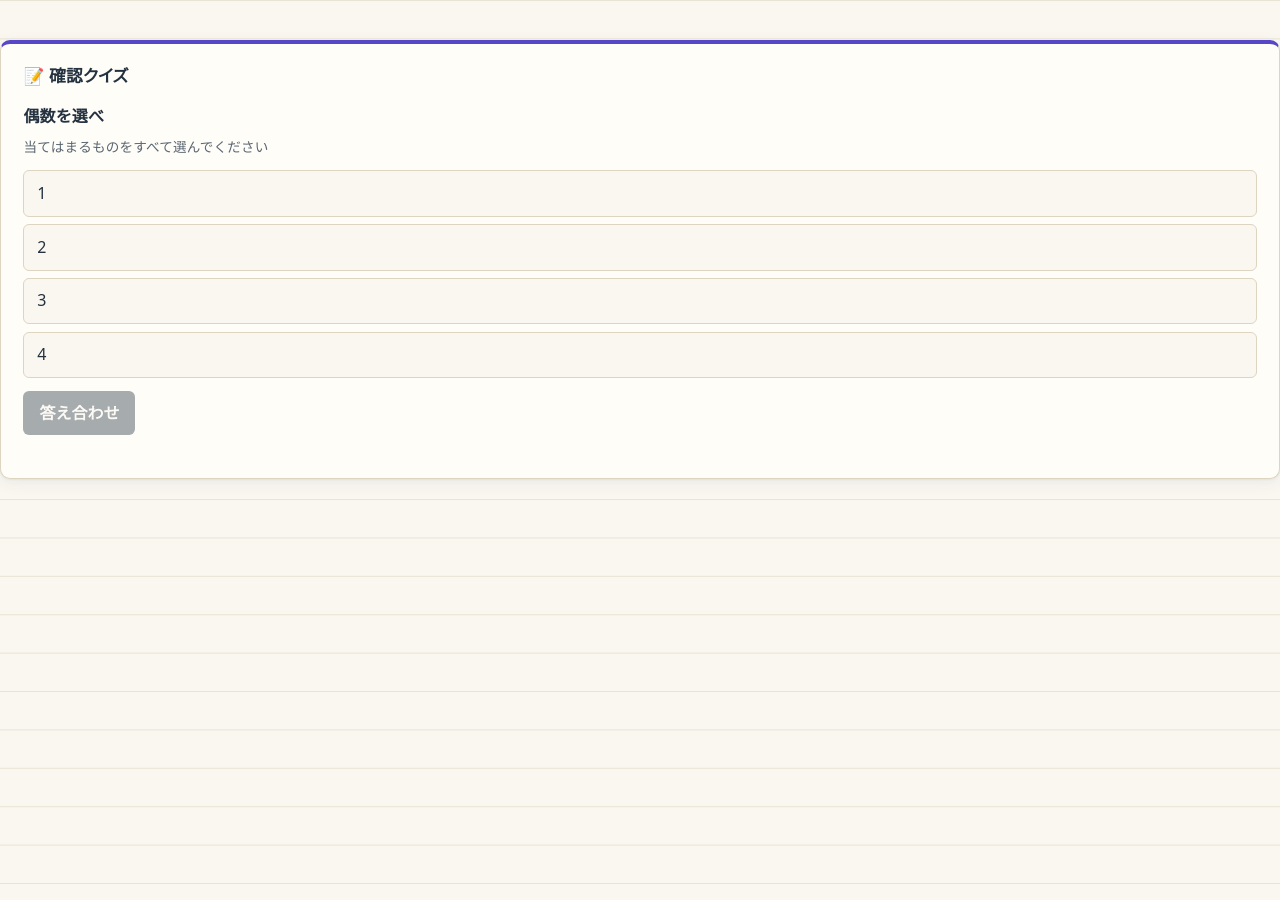
Test case: QuizBlock › multi-select: deselecting after a wrong check clears the verdict too
Click the button "1" at (42, 193), box top-left (23, 170), bottom-right (1257, 217)
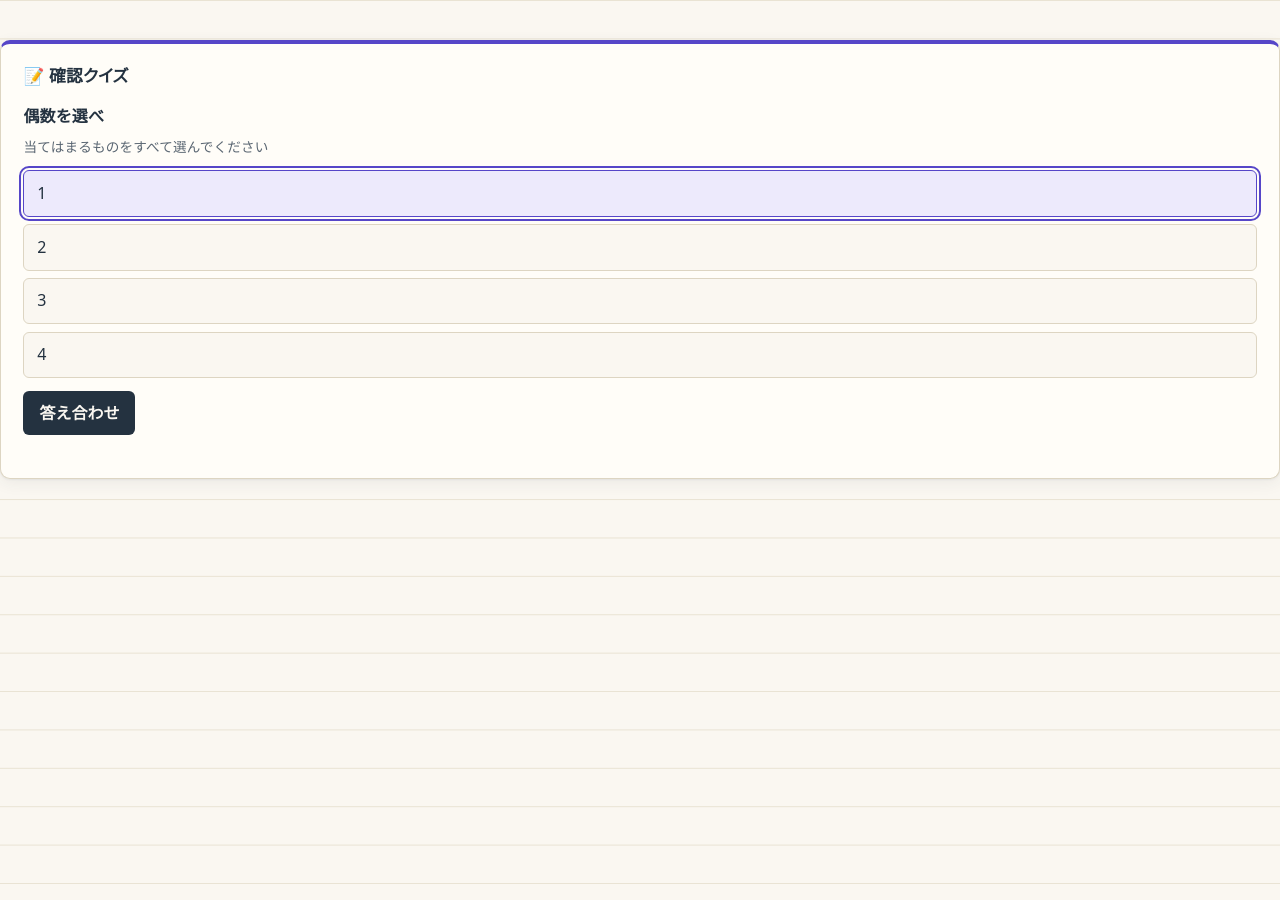
Click the button "2" at (42, 247), box top-left (23, 224), bottom-right (1257, 270)
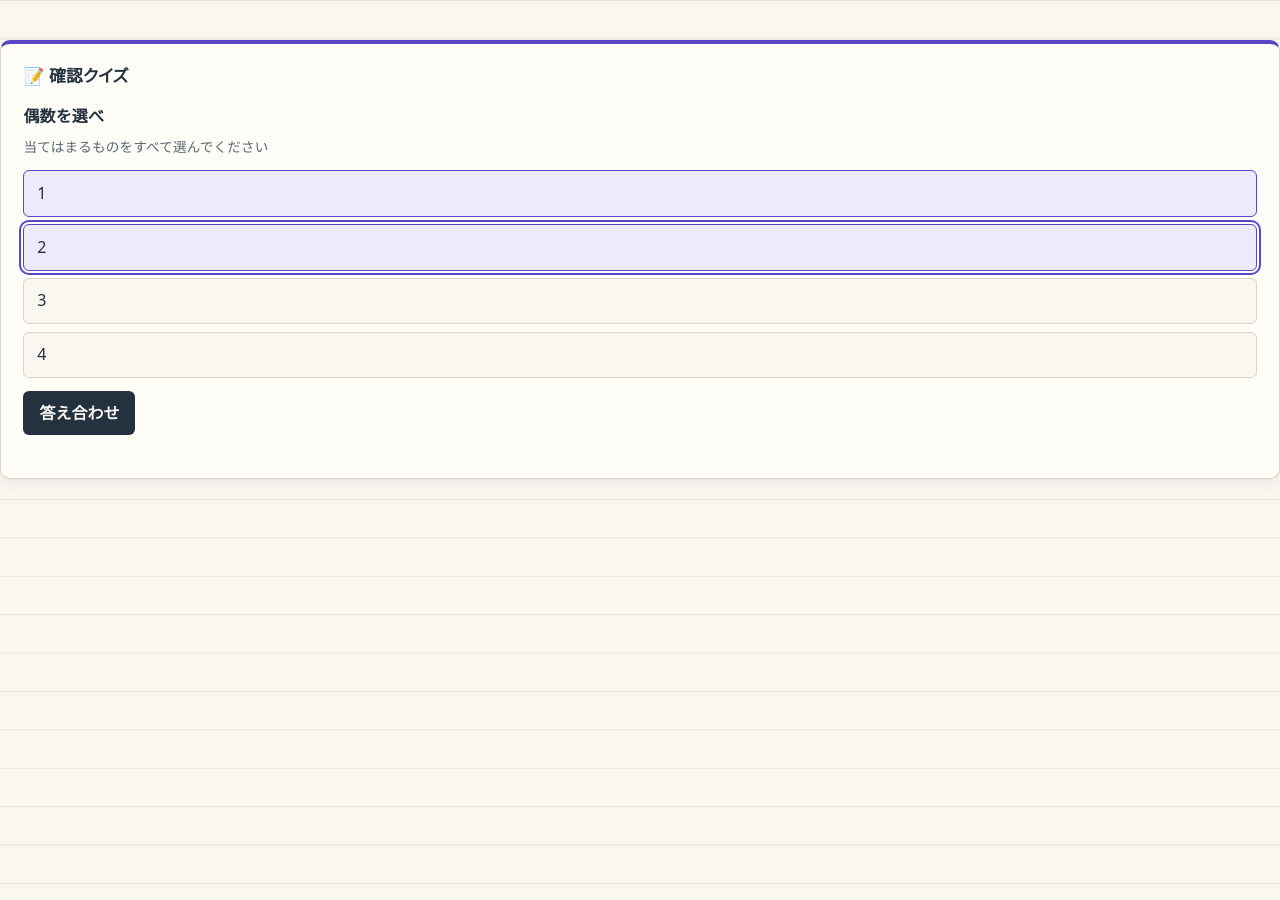
Click the button "答え合わせ" at (79, 413), box top-left (23, 391), bottom-right (135, 435)
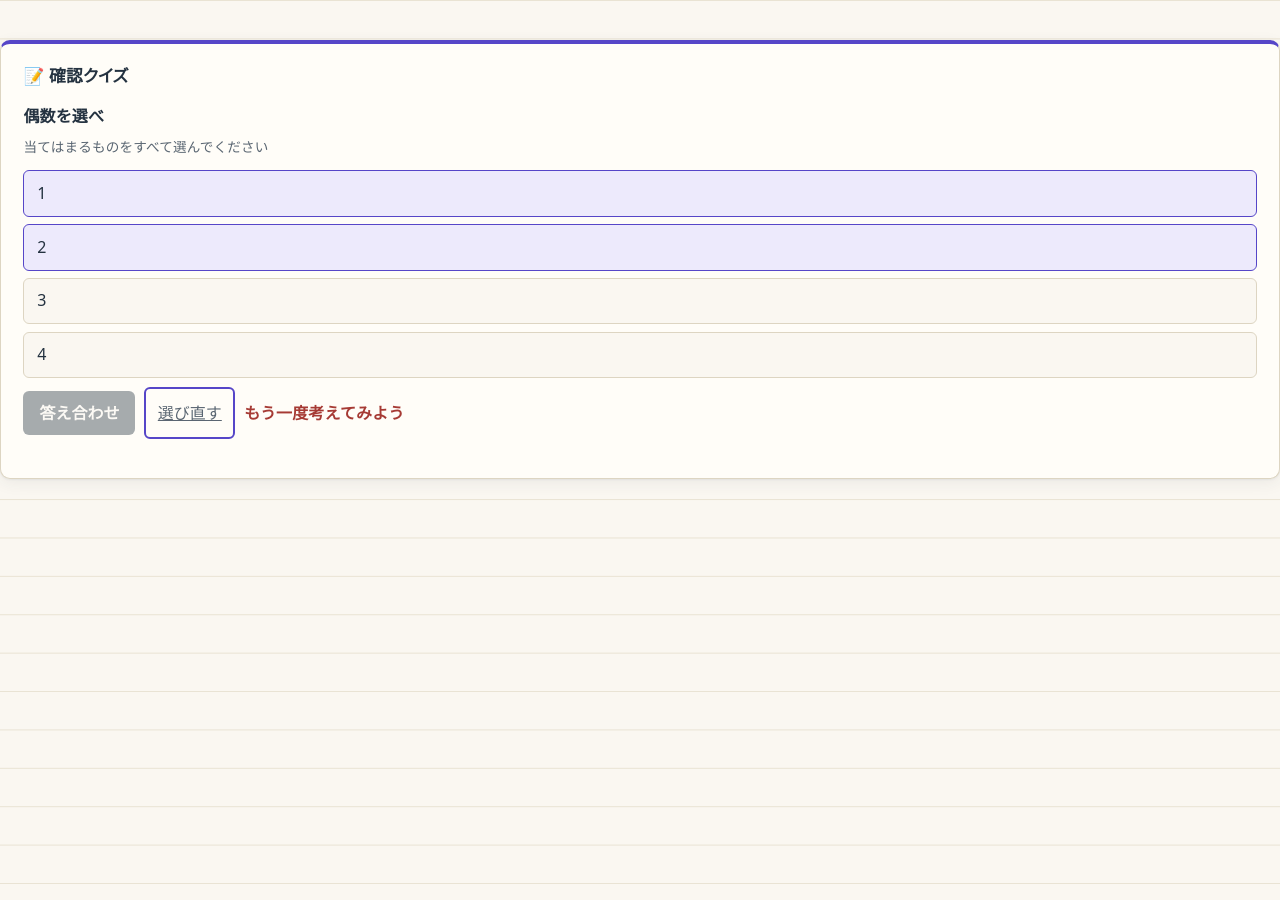
Now the text "もう一度考えてみよう" is shown, box top-left (244, 400), bottom-right (404, 427)
Click the button "1" at (42, 193), box top-left (23, 170), bottom-right (1257, 217)
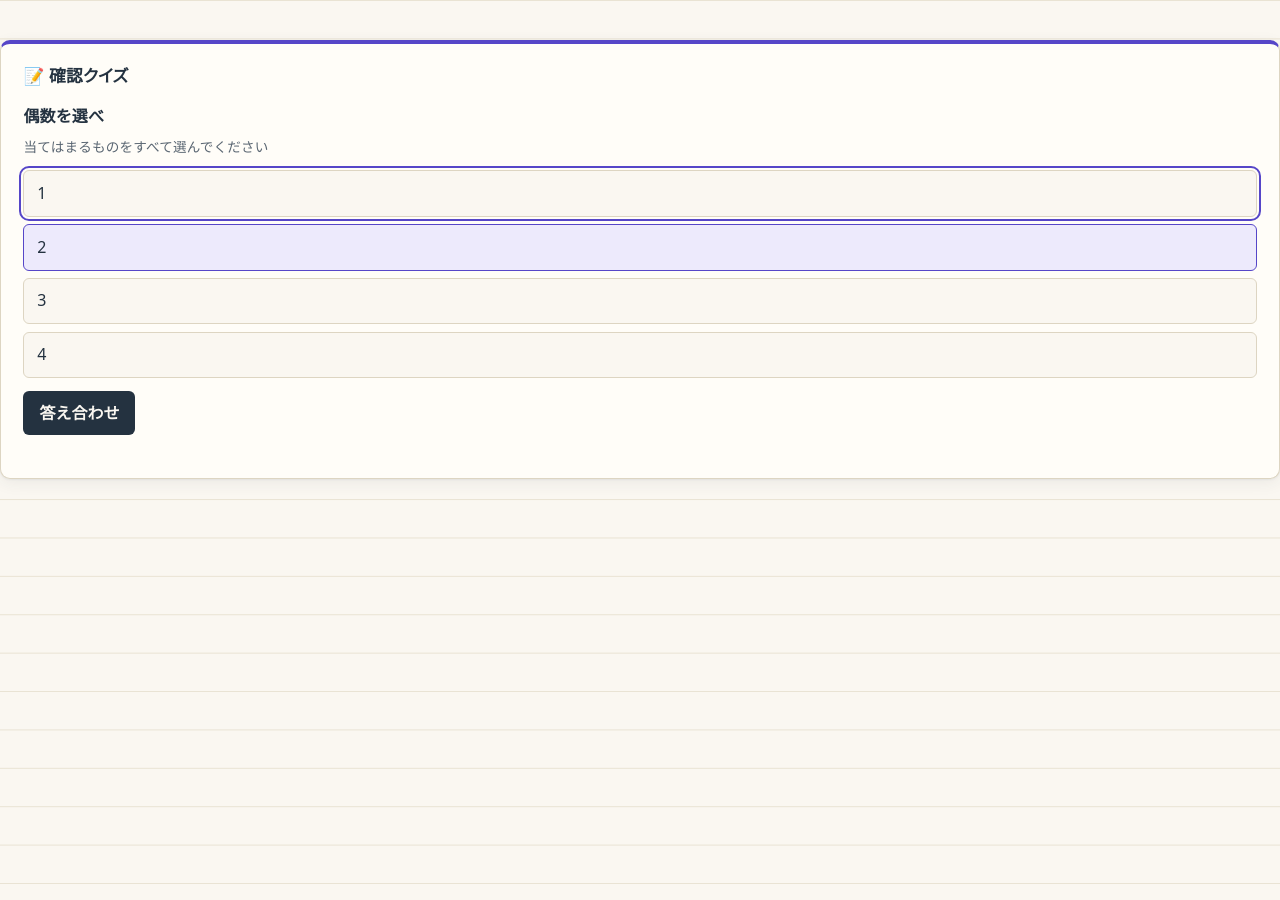
Now the text "もう一度考えてみよう" is gone
Click the button "4" at (42, 354), box top-left (23, 332), bottom-right (1257, 378)
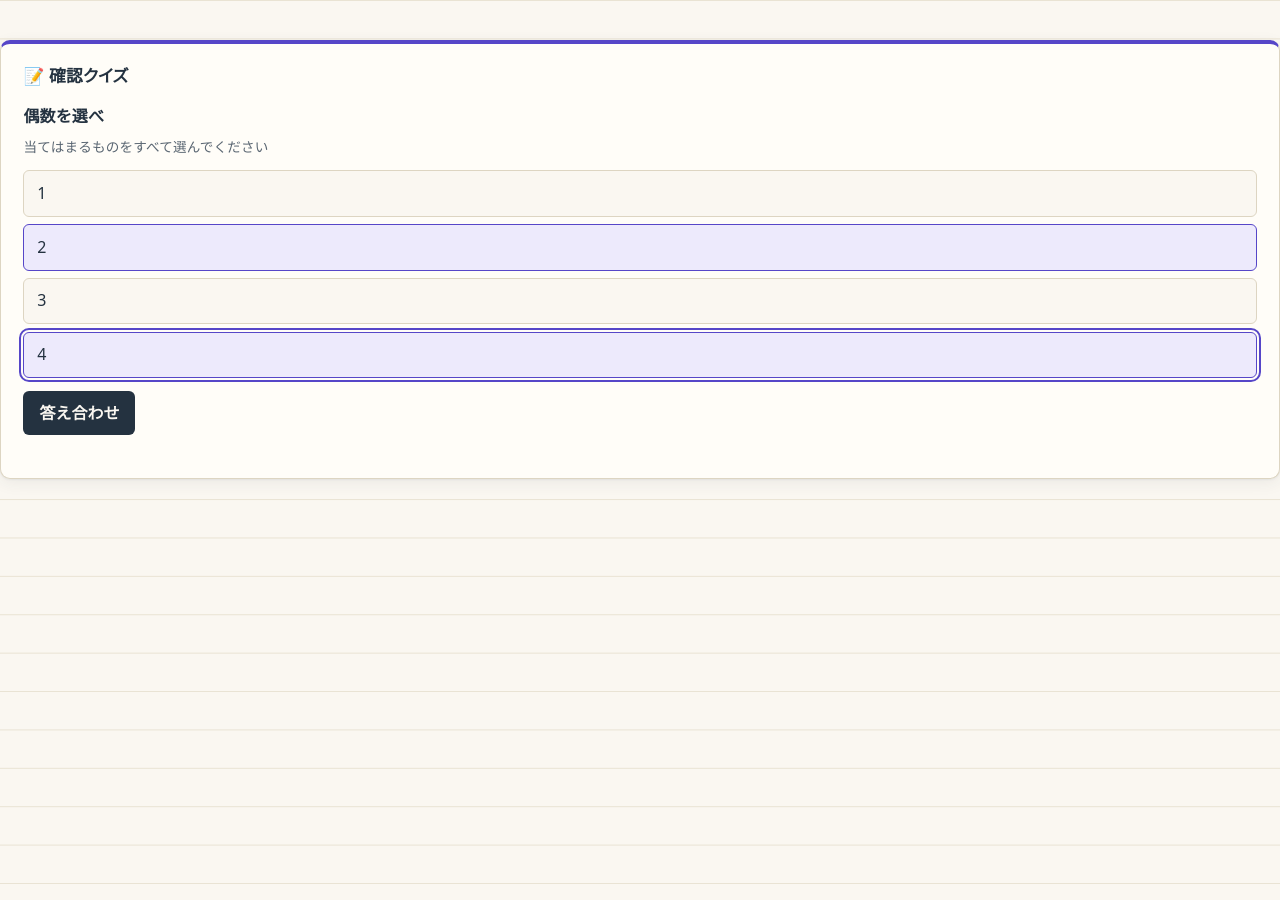
Click the button "答え合わせ" at (79, 413), box top-left (23, 391), bottom-right (135, 435)
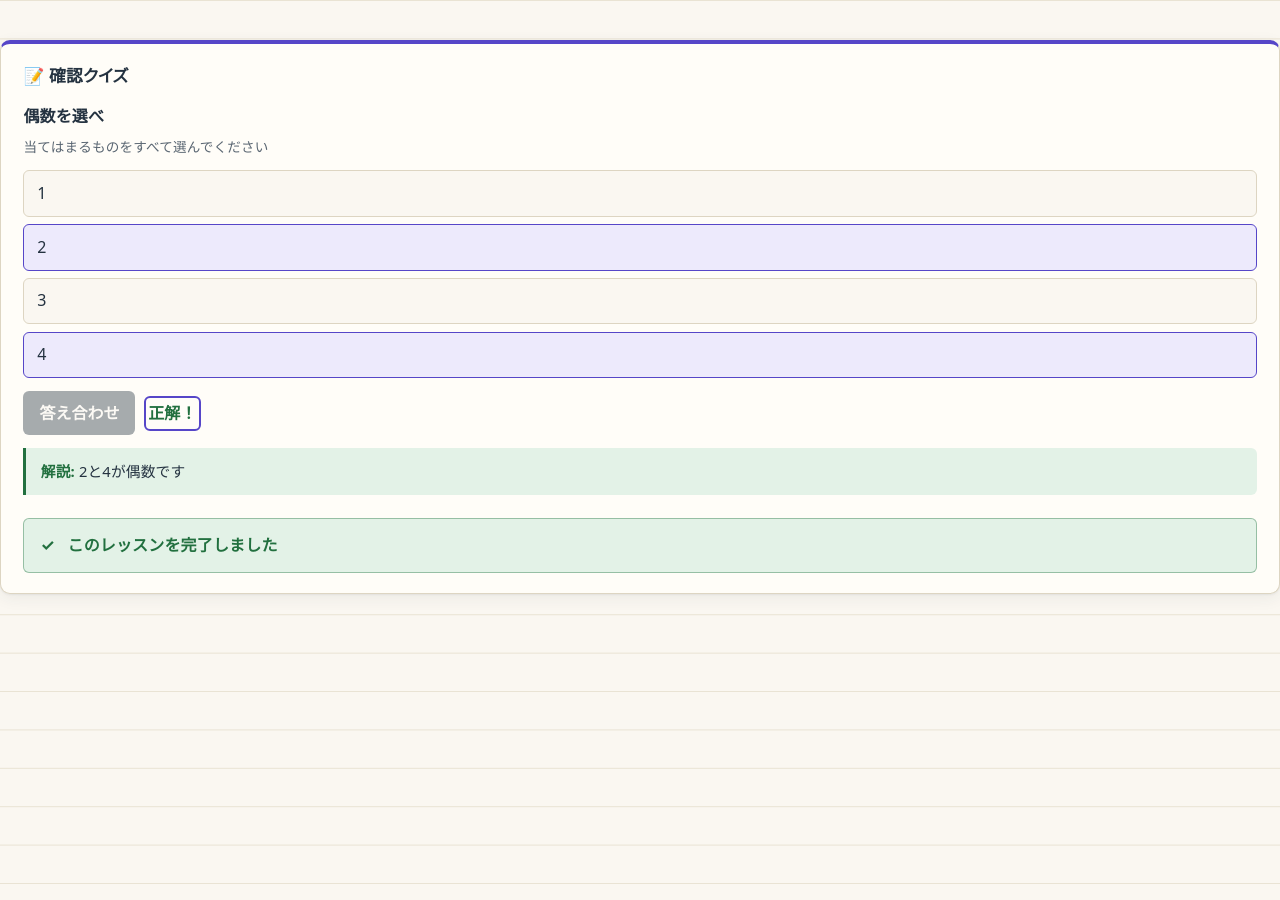
Now the text "正解！" is shown, box top-left (148, 400), bottom-right (197, 427)
